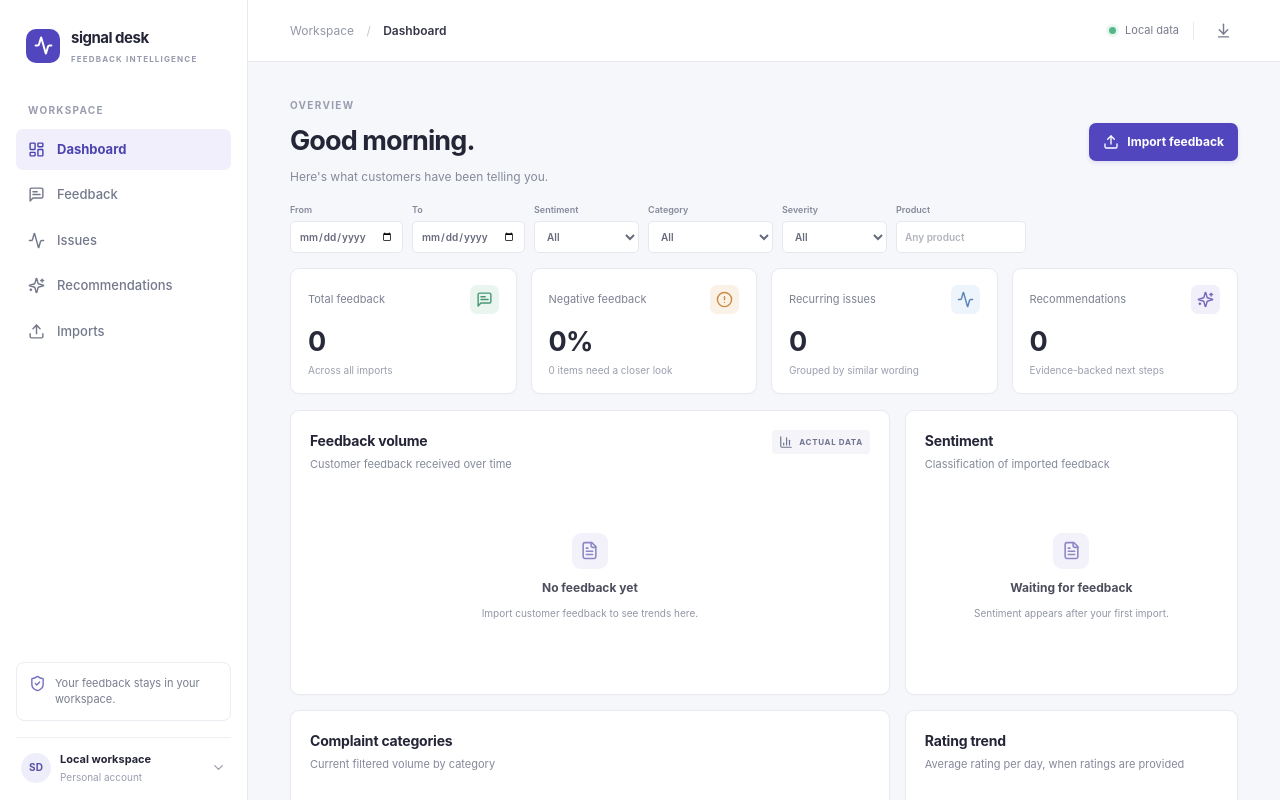
Test case: feedback dashboard › opens the import workflow from the sidebar
This screenshot has width=1280, height=800.
Step 1. Click the button "Imports" → {"x": 124, "y": 331}, box [16,310,231,352]
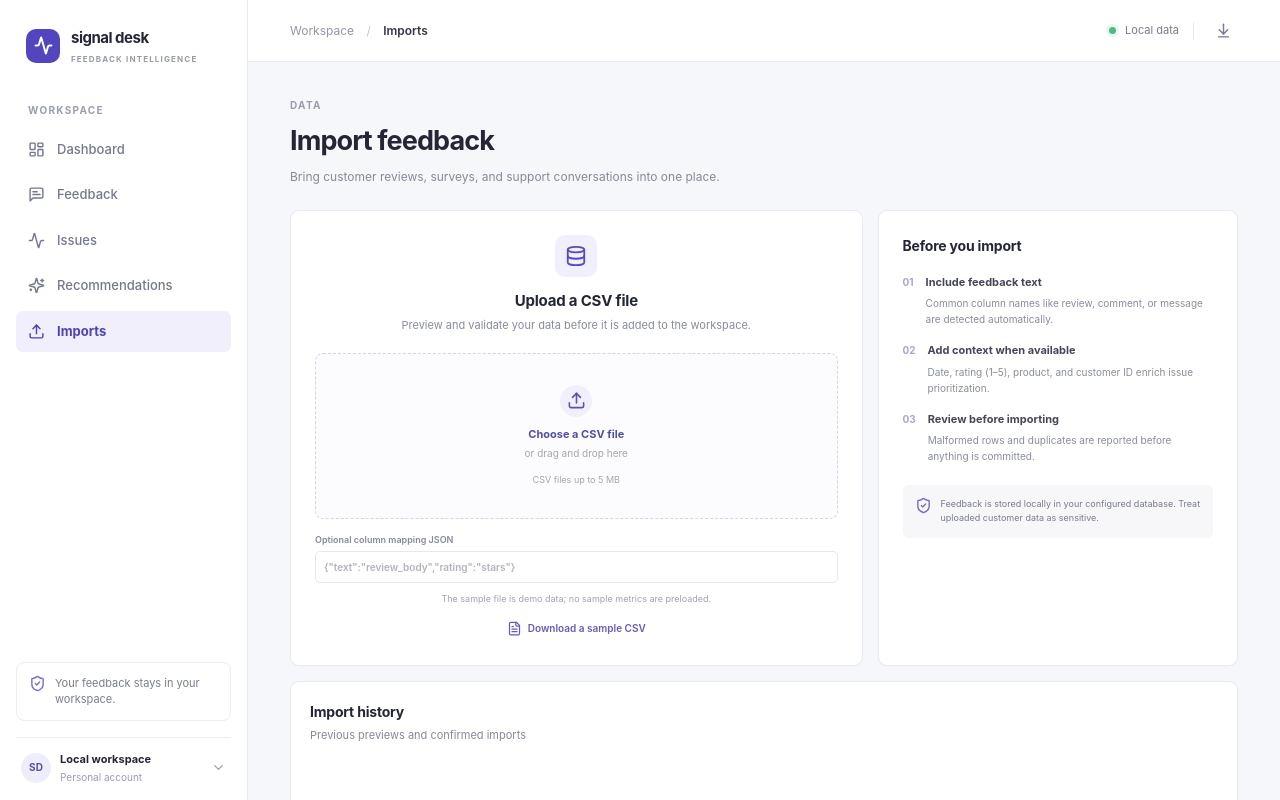
Check: the heading "Import feedback" is shown, box [290,124,494,157]
Check: the text "CSV files up to 5 MB" is shown, box [533,473,620,486]
